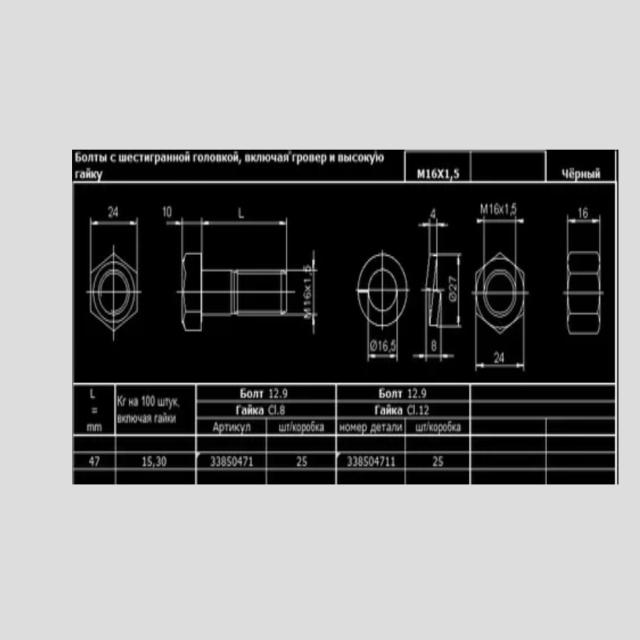marking_line: (199, 218, 292, 254), (288, 248, 317, 337), (471, 336, 527, 373), (474, 216, 525, 252), (441, 253, 462, 330), (415, 328, 457, 365), (365, 324, 403, 364), (565, 215, 603, 251), (417, 221, 454, 254), (167, 217, 185, 255), (92, 219, 139, 227)
numeric: (302, 308, 312, 321), (479, 204, 489, 215), (493, 350, 500, 364), (166, 205, 173, 218), (236, 206, 243, 219), (430, 339, 437, 352), (94, 456, 101, 469), (432, 455, 439, 468), (108, 205, 114, 220), (448, 282, 458, 291), (390, 339, 396, 353), (511, 202, 517, 216), (90, 389, 97, 401), (88, 456, 95, 468), (448, 274, 457, 283), (94, 422, 103, 431), (302, 264, 312, 272), (87, 423, 95, 433), (382, 340, 388, 353), (431, 168, 437, 181), (453, 167, 459, 180), (423, 404, 430, 415), (113, 206, 119, 218), (430, 207, 436, 219), (231, 456, 237, 468), (242, 455, 248, 467), (302, 455, 308, 467), (413, 388, 419, 400), (420, 387, 426, 399), (438, 455, 444, 467), (145, 394, 150, 408), (582, 207, 588, 218), (161, 456, 167, 467), (220, 456, 226, 467), (282, 387, 288, 398), (273, 388, 279, 399), (499, 351, 504, 364), (151, 395, 156, 408), (374, 455, 379, 468), (163, 206, 168, 218), (489, 203, 494, 215), (148, 455, 153, 467), (156, 455, 161, 467), (141, 395, 146, 407), (210, 455, 215, 467), (226, 456, 231, 468), (238, 455, 243, 467), (426, 168, 431, 180), (352, 456, 357, 468), (358, 455, 363, 467), (363, 455, 368, 467), (369, 455, 374, 467), (379, 456, 384, 468), (385, 455, 390, 467), (391, 455, 396, 467), (505, 202, 509, 216), (577, 207, 582, 218), (280, 404, 285, 415), (347, 456, 352, 467), (303, 277, 312, 283), (303, 292, 312, 298), (494, 203, 498, 216), (302, 300, 312, 305), (407, 388, 412, 398), (378, 340, 382, 352), (142, 455, 146, 467), (445, 168, 449, 180), (216, 456, 220, 467), (249, 456, 253, 467), (297, 456, 301, 467), (269, 387, 273, 398), (413, 404, 416, 415), (420, 405, 423, 416), (274, 405, 277, 415)
special_symbol: (447, 291, 458, 303), (369, 339, 377, 353), (498, 203, 505, 216), (305, 285, 312, 293), (91, 408, 99, 414)
